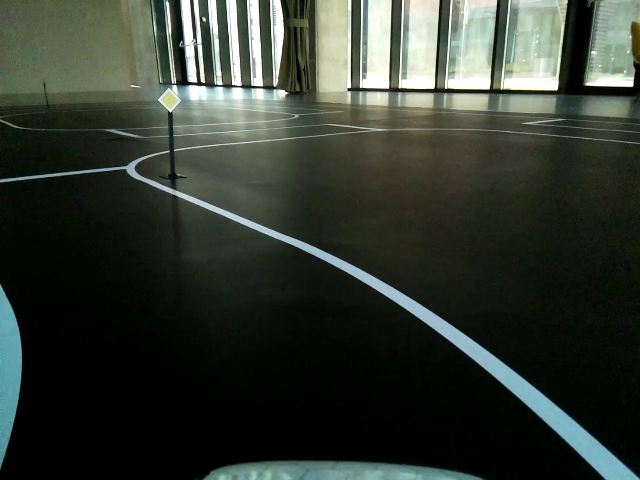priority: (157, 88, 180, 113)
